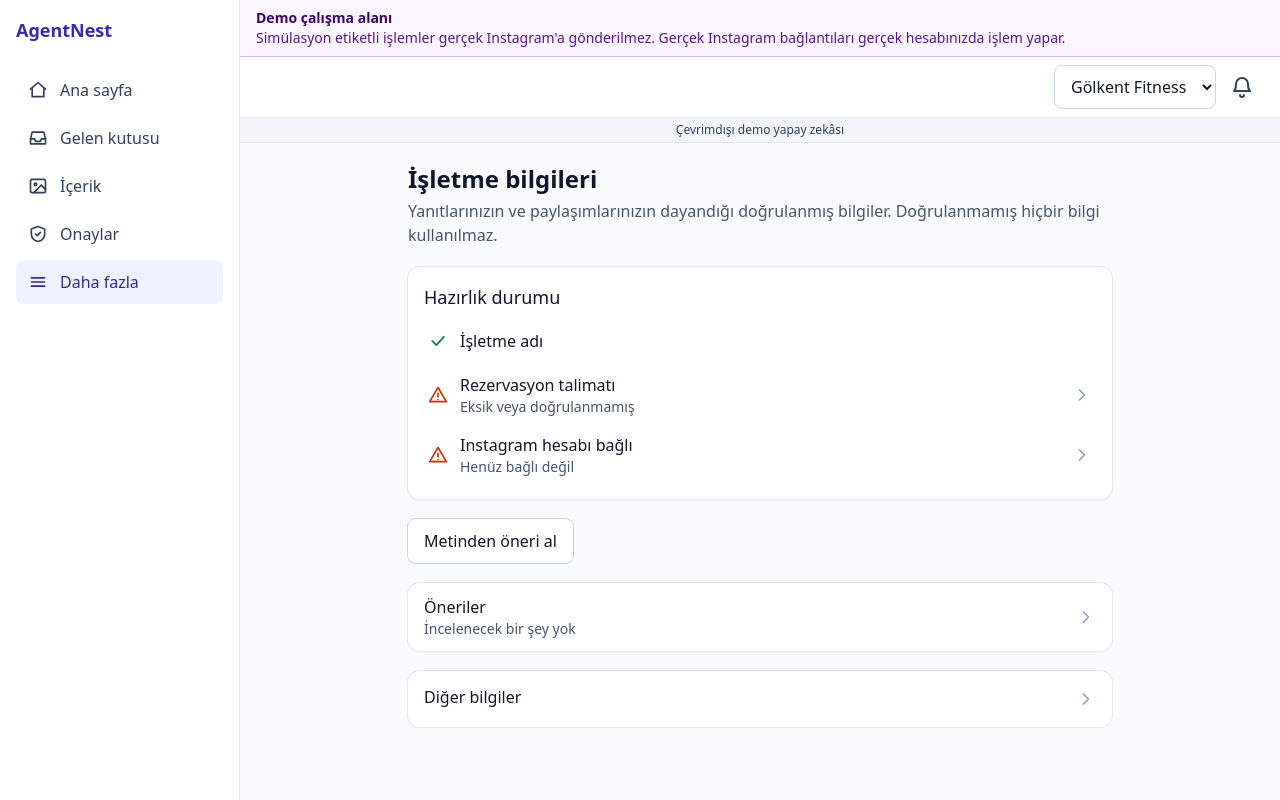
Test case: paste and extract › keeps the pasted text when extraction fails
Click the button with test id "open-paste-extract" at (490, 541), box left=408, top=519, right=573, bottom=563
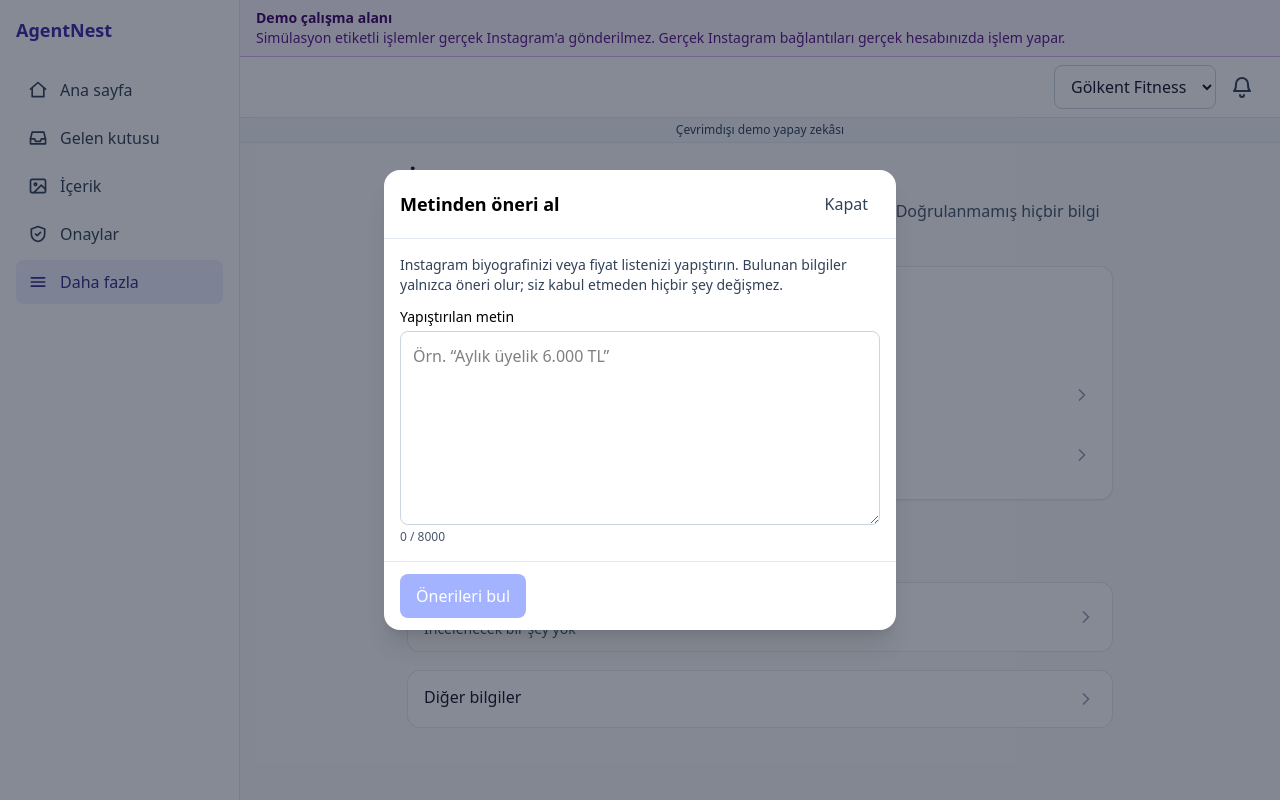
Click the text box labelled "Yapıştırılan metin" at (640, 428), box left=400, top=331, right=880, bottom=525
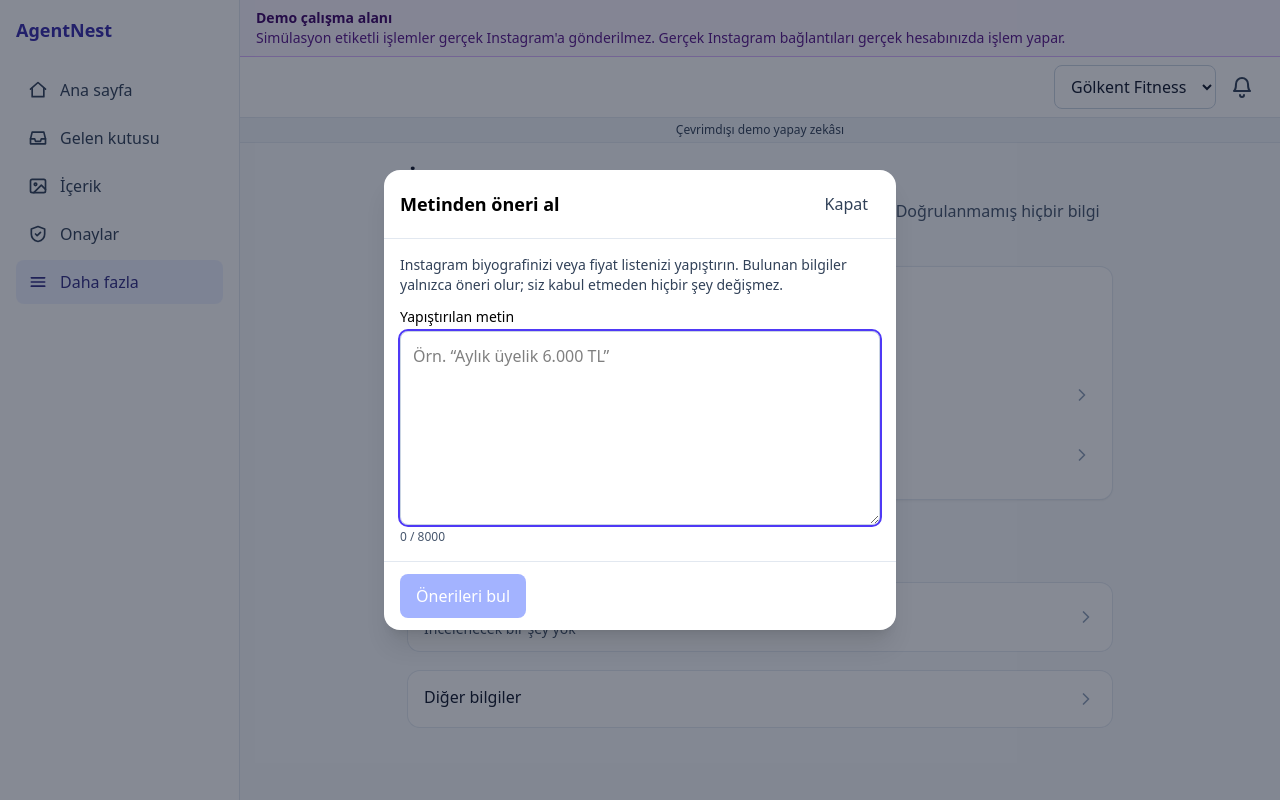
Type keys "Aylık üyelik 6.000 TL"
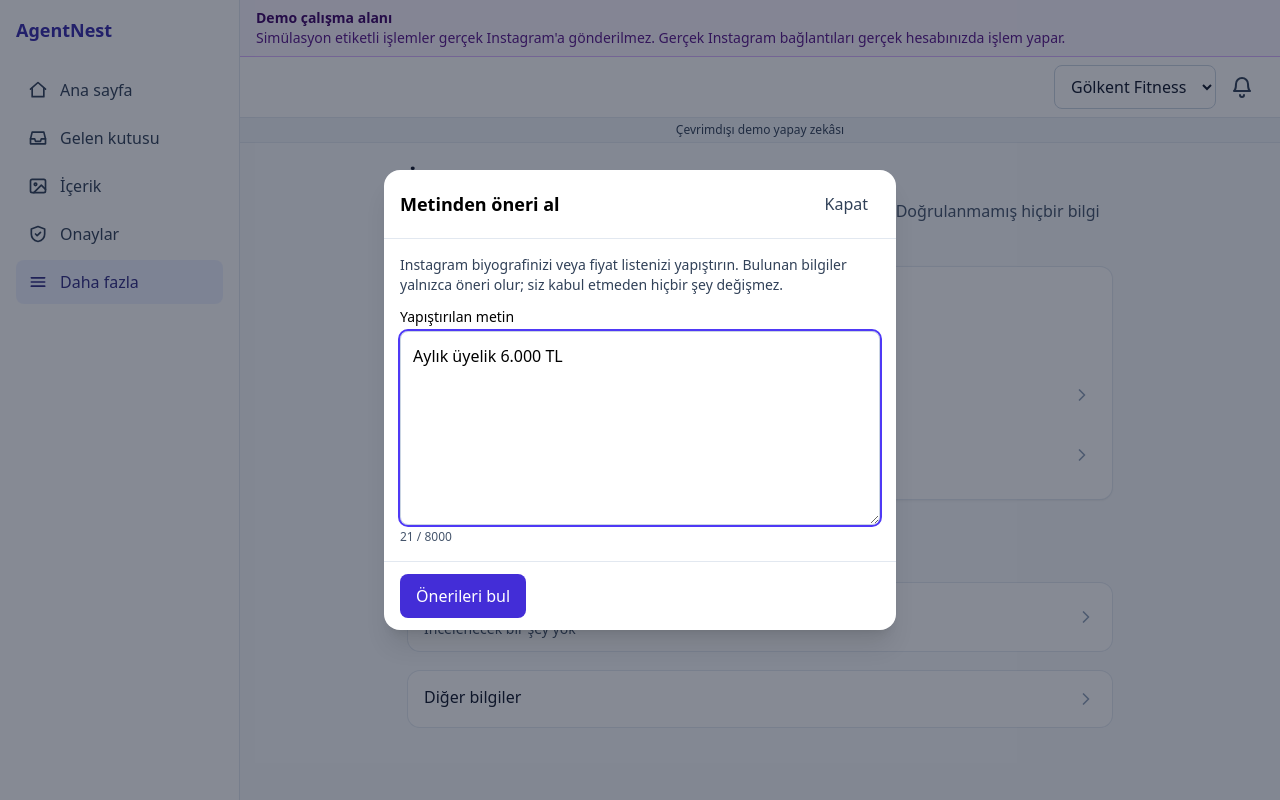
Click the button "Önerileri bul" at (463, 596), box left=400, top=574, right=526, bottom=618
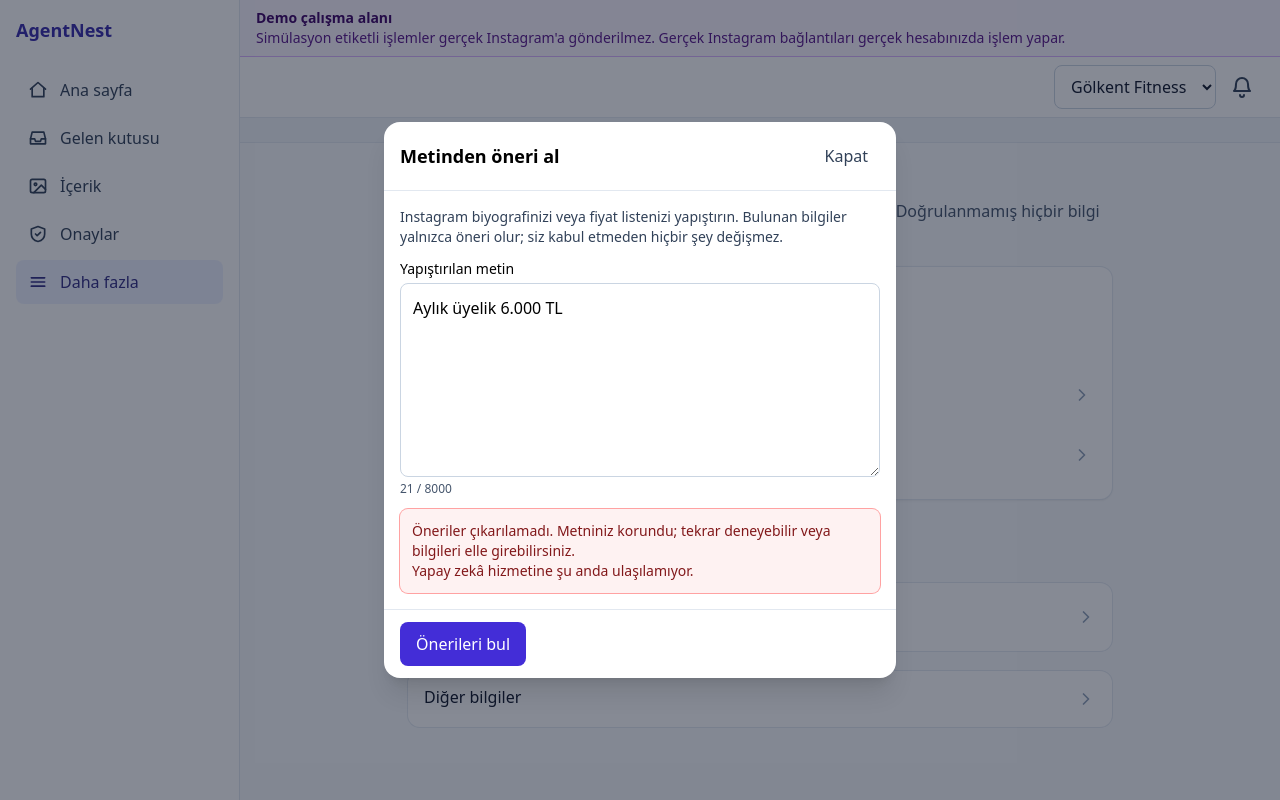
Expected: the text box labelled "Yapıştırılan metin" holds "Aylık üyelik 6.000 TL", left=400, top=283, right=880, bottom=477
Expected: the message shows "Metniniz korundu", left=412, top=521, right=831, bottom=560
